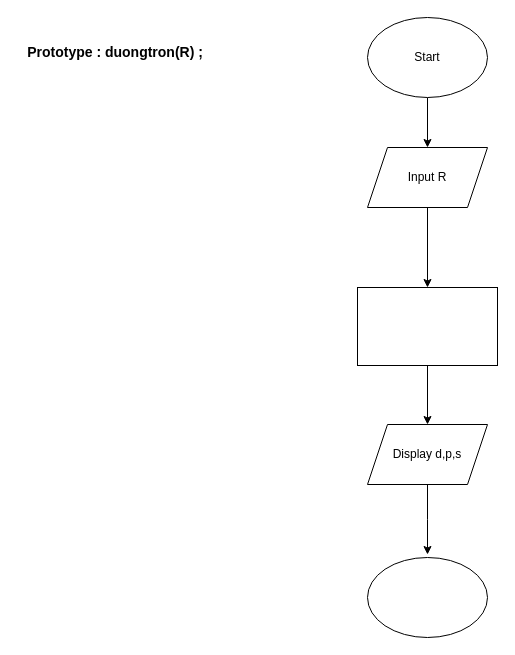
The diagram is 515 pixels wide and 655 high, and some of its shapes have lost their labels. The centre of each missing label's shape, as x and y in pixels:
"d<--2*R p<--2*3.14*R s<--R*R" goes at pixel 427 326.
"End" goes at pixel 427 597.
